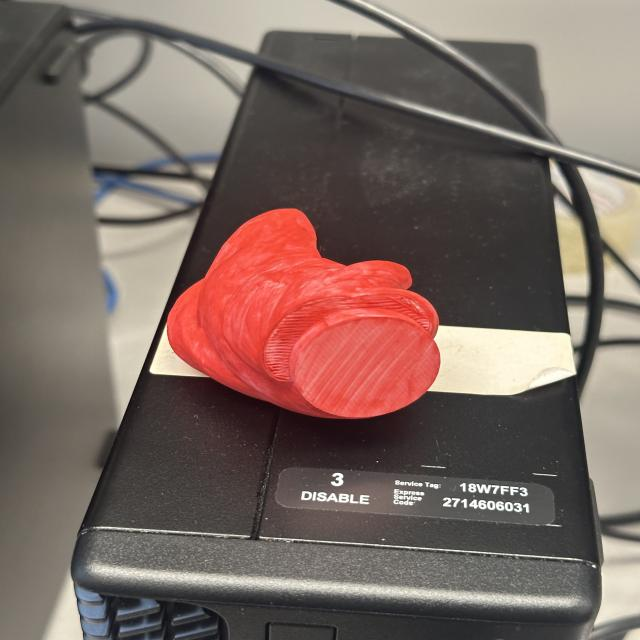fire: (163, 204, 445, 421)
